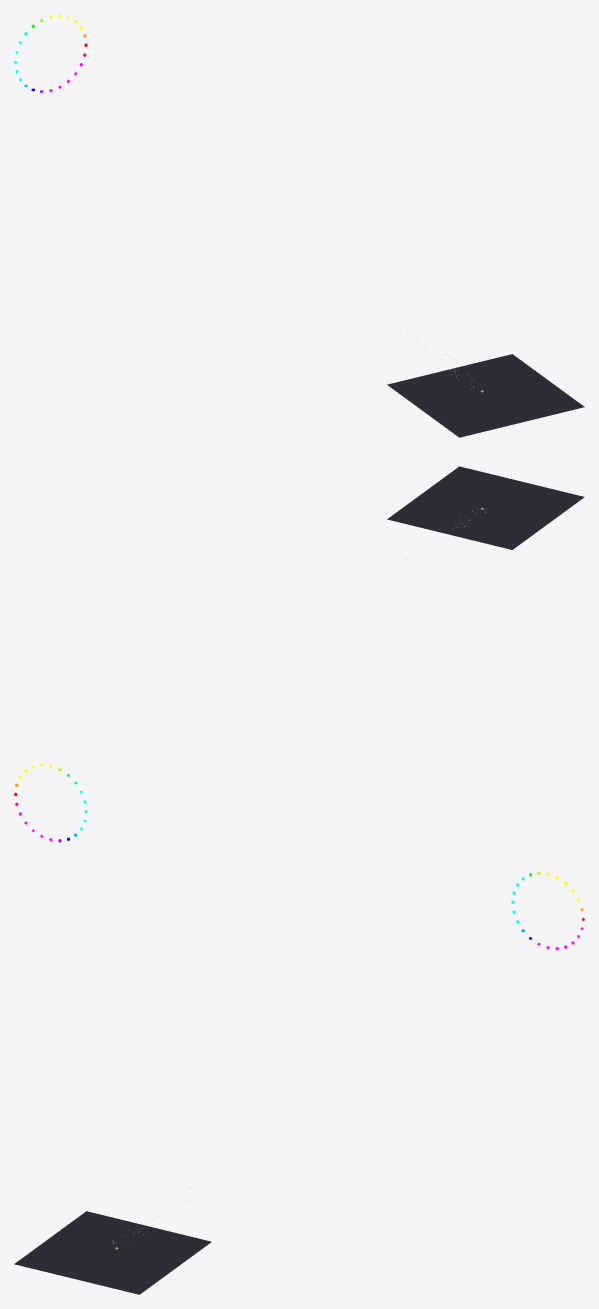
The model's file is rainbow_ring.glb.
3 renders of one model, top to bottom at view 1: azimuth 30°, elevation 25°; view 2: azimuth 150°, elevation 25°; view 3: azimuth 330°, elevation 25°, orthographic.
Visible parts, largest first — view 1: Ground; view 2: Ground; view 3: Ground.
Part boxes in pixels (left/top/right/bottom): Ground: left=387, top=354, right=584, bottom=437; Ground: left=387, top=466, right=584, bottom=549; Ground: left=14, top=1211, right=211, bottom=1294.
Size of the model in its own units: 100 by 58.73 by 651.
